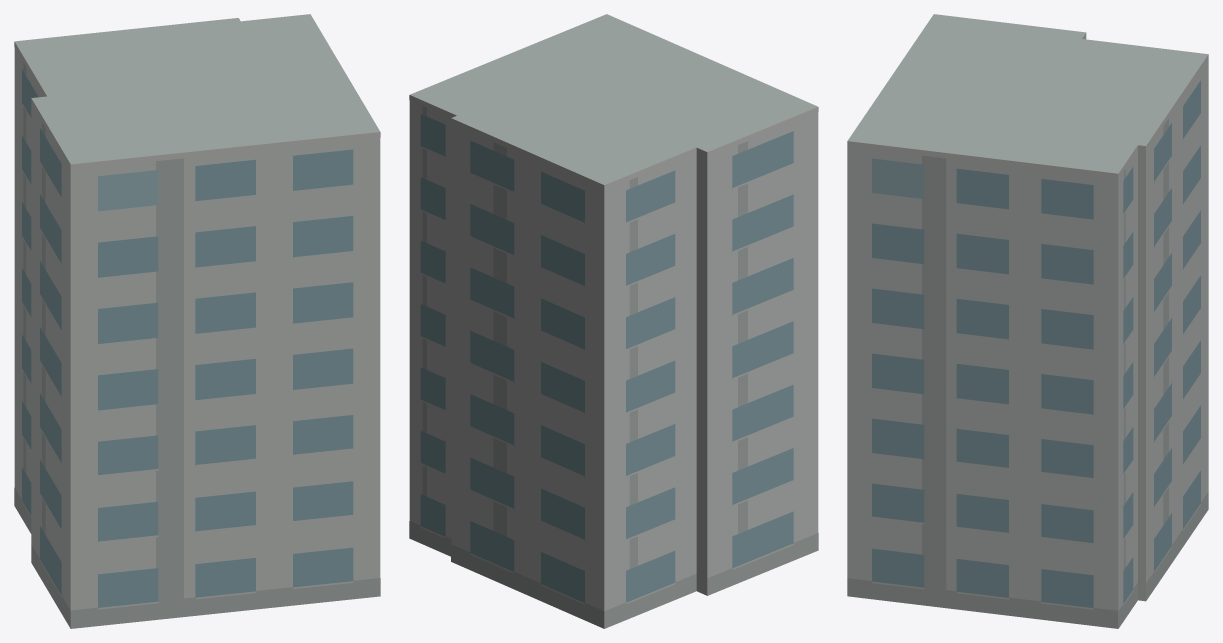
Rendered from survey-upis-32880163.glb.
The picture shows the model from 3 angles, left to right: view 1: azimuth 30°, elevation 25°; view 2: azimuth 150°, elevation 25°; view 3: azimuth 270°, elevation 25°; orthographic projection. The views are drawn at different scales.
Parts seen in each view (by area): view 1: survey-upis-32880163.tmp; view 2: survey-upis-32880163.tmp; view 3: survey-upis-32880163.tmp.
Boxes of the visible parts, x1,y1,x2,y2 form: survey-upis-32880163.tmp: (14, 14, 380, 628); survey-upis-32880163.tmp: (409, 14, 818, 628); survey-upis-32880163.tmp: (847, 14, 1208, 628).
Size of the model in its own units: 14.98 by 19.9 by 14.32.
